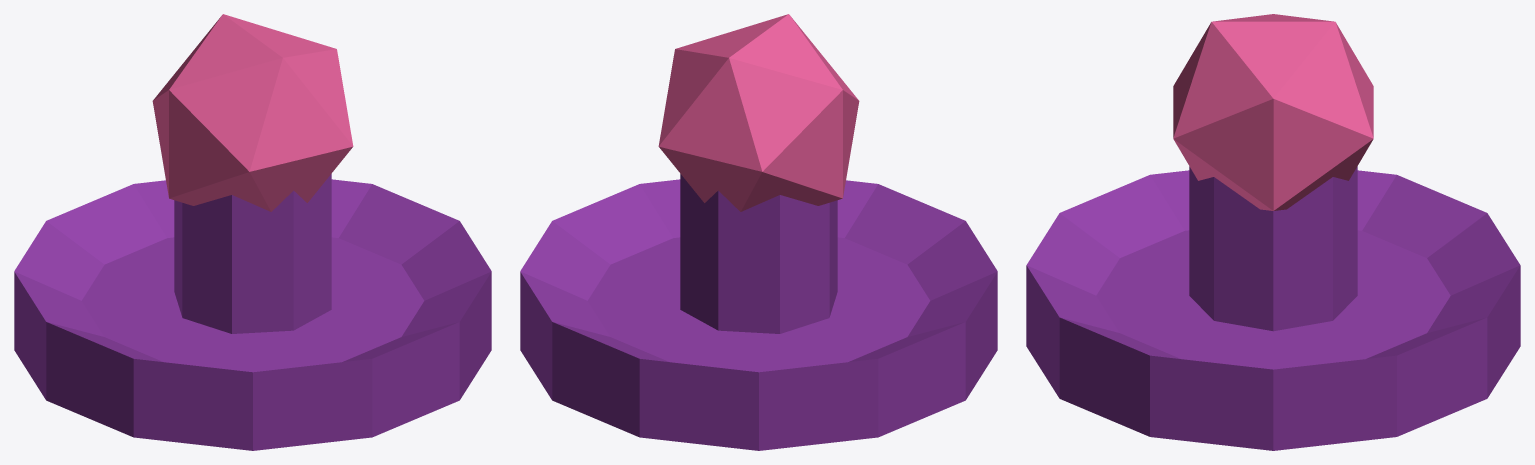
File: mallet_c.glb
The picture shows the model from 3 angles, left to right: view 1: azimuth 30°, elevation 25°; view 2: azimuth 150°, elevation 25°; view 3: azimuth 270°, elevation 25°; orthographic projection. The views are drawn at different scales.
Parts seen in each view (by area): view 1: Disc; view 2: Disc; view 3: Disc.
Boxes of the visible parts, bbox=[...] form: Disc: bbox=[14, 14, 491, 450]; Disc: bbox=[520, 14, 997, 450]; Disc: bbox=[1026, 14, 1520, 450].
Size of the model in its own units: 0.44 by 0.3193 by 0.44.
